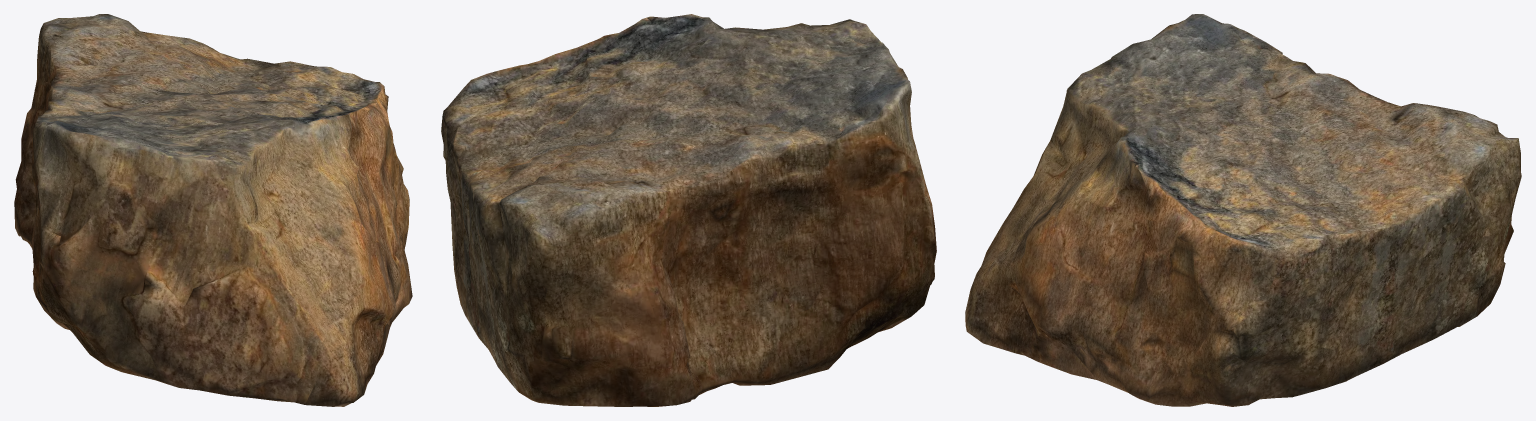
The model's file is rock_sandstone_block.glb.
3 views of the same model, side by side, from view 1: azimuth 30°, elevation 25°; view 2: azimuth 150°, elevation 25°; view 3: azimuth 270°, elevation 25° (orthographic). The views are drawn at different scales.
Parts seen in each view (by area): view 1: boulder_03_LOD0; view 2: boulder_03_LOD0; view 3: boulder_03_LOD0.
Part boxes in pixels (left/top/right/bottom): boulder_03_LOD0: left=14, top=14, right=412, bottom=406; boulder_03_LOD0: left=441, top=14, right=936, bottom=406; boulder_03_LOD0: left=965, top=14, right=1521, bottom=406.
Size of the model in its own units: 2.4 by 1.47 by 3.06.
Materials: 1 (1 with a texture image).
